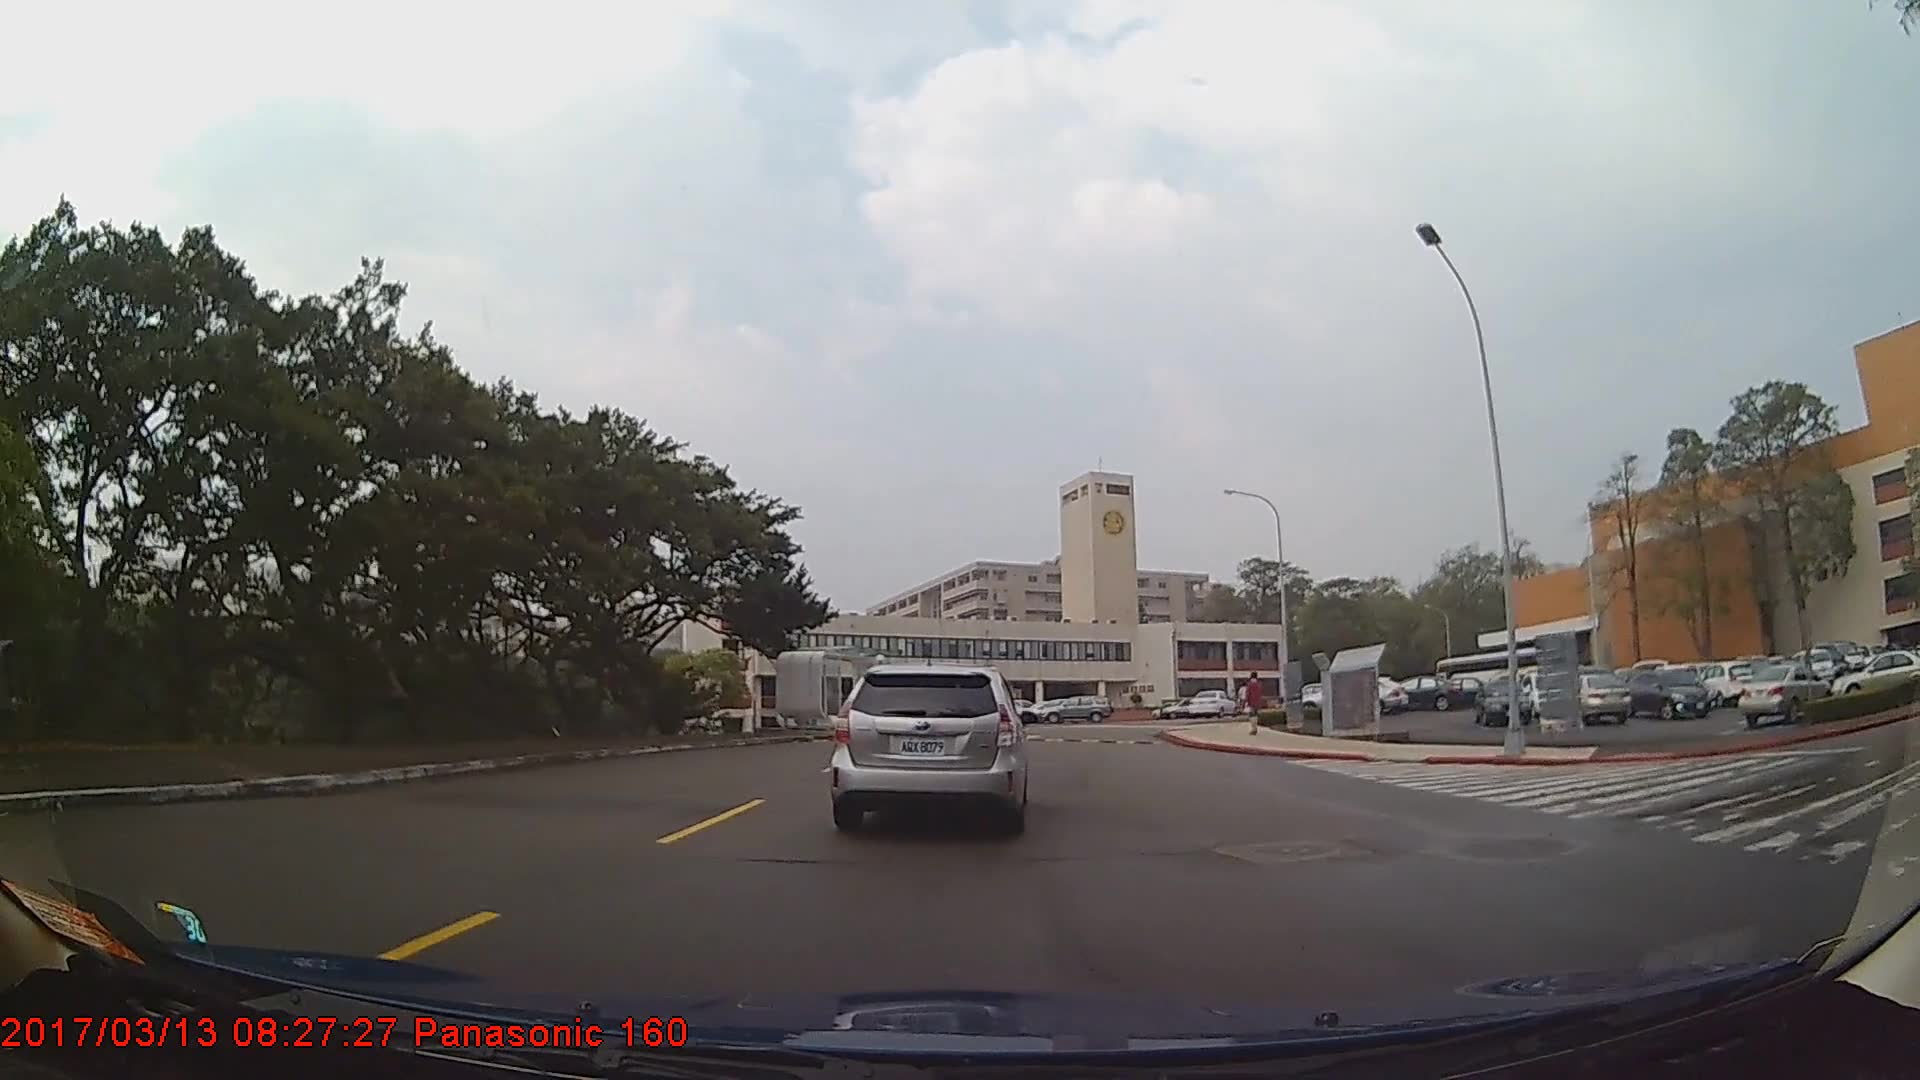pedestrian: (1244, 672, 1267, 734)
vehicle: (833, 658, 1027, 833), (1736, 662, 1831, 724), (1622, 666, 1709, 718), (1830, 651, 1920, 699), (1570, 669, 1630, 725), (1472, 678, 1533, 724), (1386, 675, 1462, 712), (1034, 692, 1112, 722), (1186, 687, 1239, 718)
